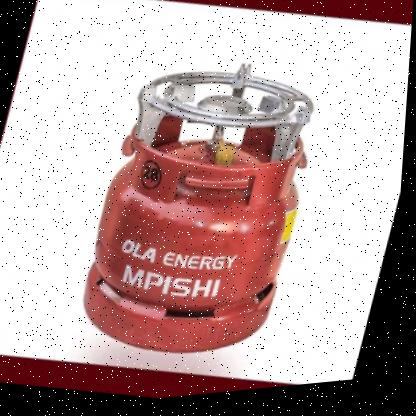gas-tank: (47, 59, 358, 398)
